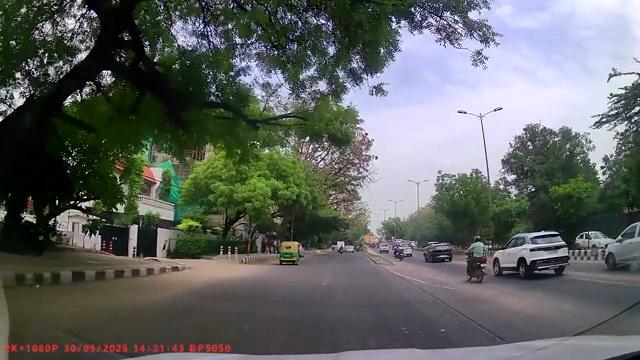motorcycle_with_helmet: (465, 235, 488, 283)
